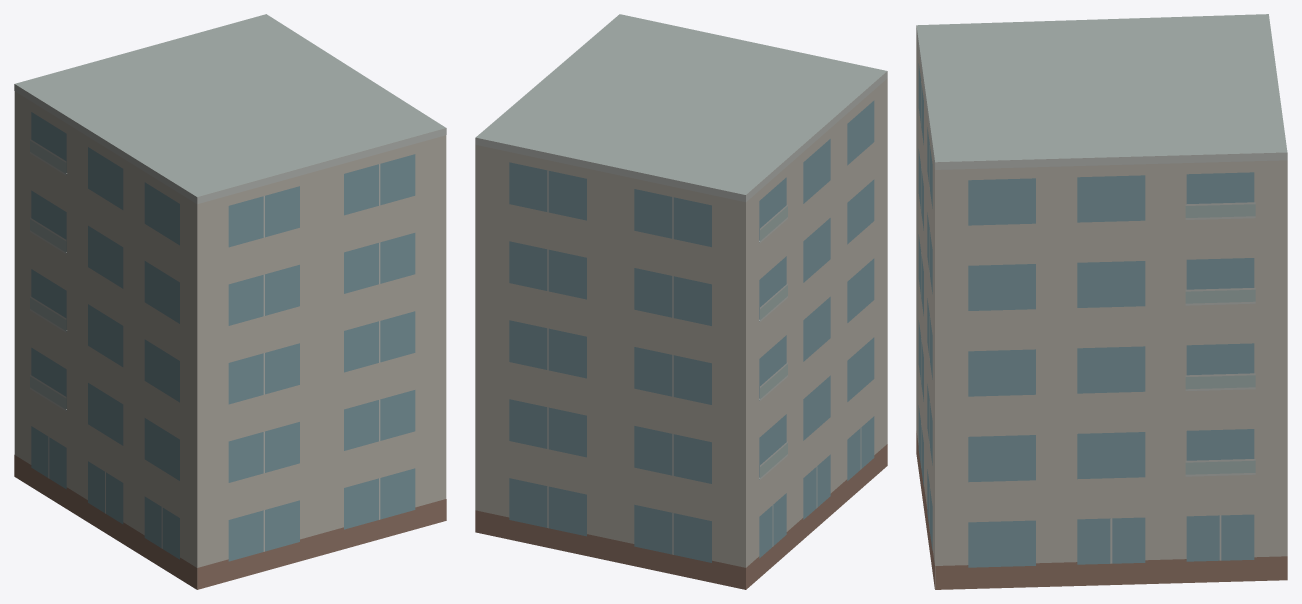
The model's file is survey-upis-32987507.glb.
3 renders of one model, left to right at view 1: azimuth 30°, elevation 25°; view 2: azimuth 150°, elevation 25°; view 3: azimuth 270°, elevation 25°, orthographic. The views are drawn at different scales.
Parts seen in each view (by area): view 1: survey-upis-32987507.tmp; view 2: survey-upis-32987507.tmp; view 3: survey-upis-32987507.tmp.
Part boxes in pixels (x1,y1,x2,y2): survey-upis-32987507.tmp: (14,14,446,589); survey-upis-32987507.tmp: (475,14,887,589); survey-upis-32987507.tmp: (916,14,1287,589).
Size of the model in its own units: 9.97 by 13.4 by 10.55.
